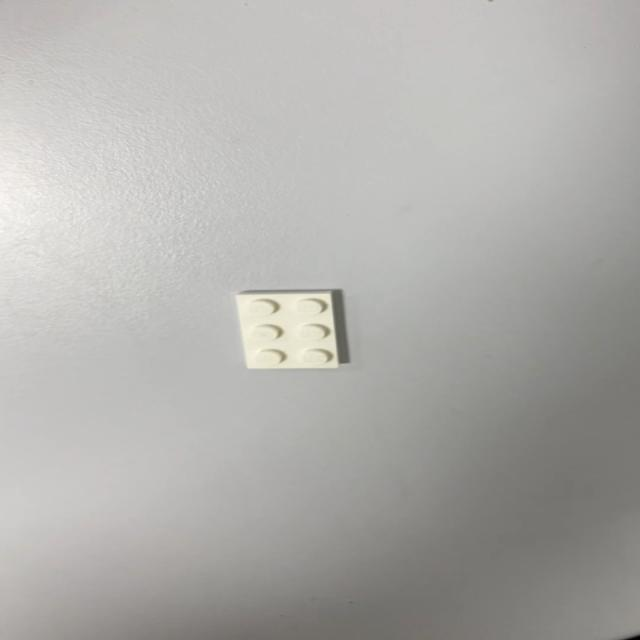C3x2x0: (233, 288, 341, 370)
